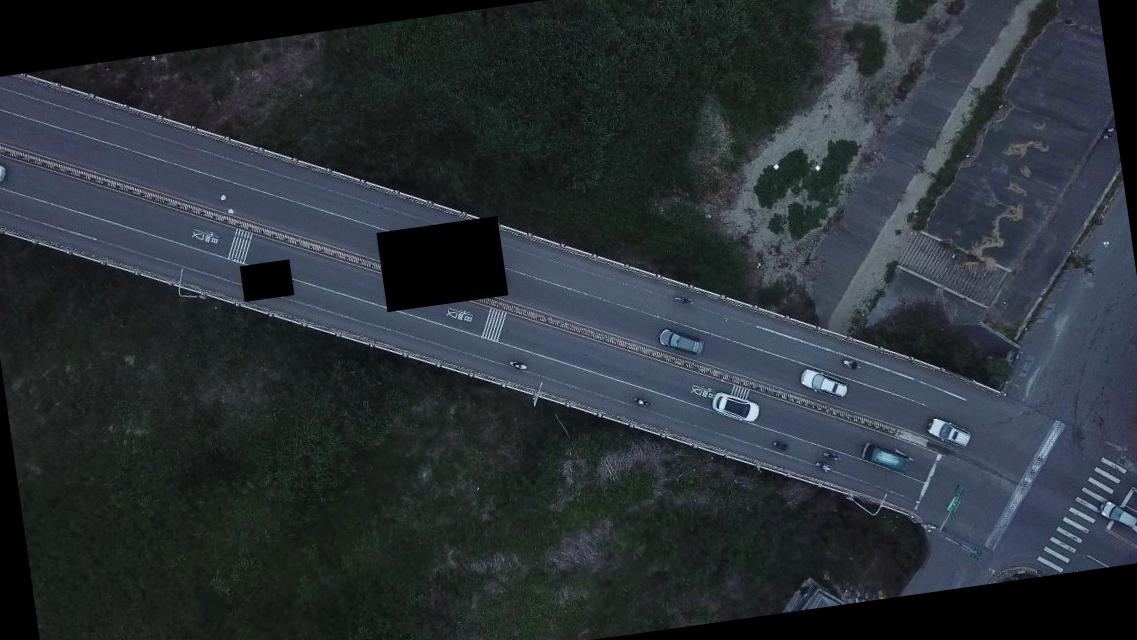vehicle: (800, 364, 851, 403), (712, 386, 759, 426), (860, 440, 909, 476), (926, 414, 973, 451), (656, 324, 705, 359), (1097, 496, 1136, 534), (0, 152, 8, 189)
